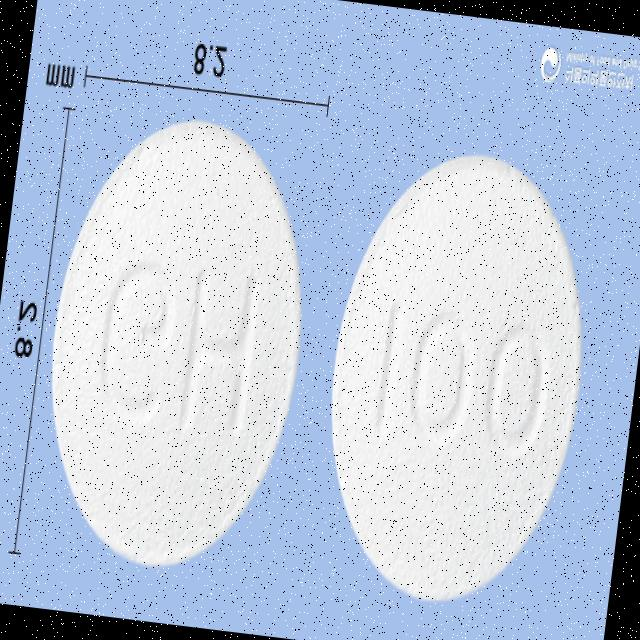Levona -500mg: (306, 138, 606, 620), (25, 103, 326, 583)
